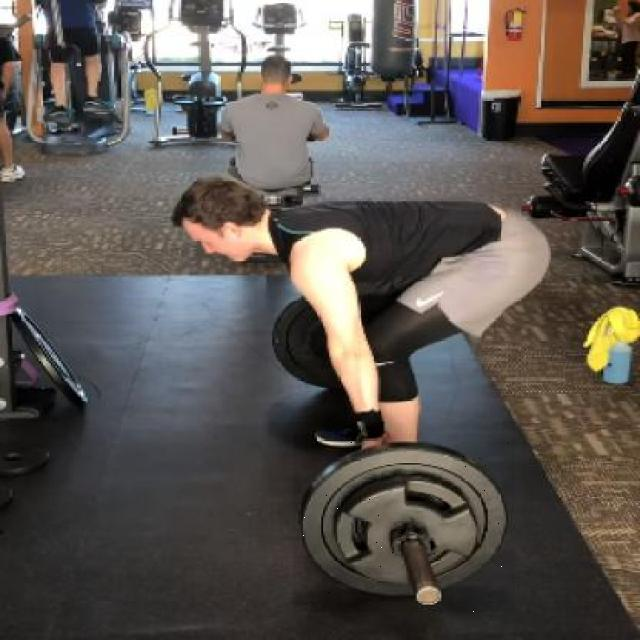barbell: (294, 435, 516, 613)
